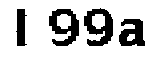9: (43, 4, 79, 51), (80, 5, 115, 51)
a: (116, 15, 148, 49)
l: (12, 5, 34, 51)
